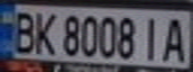0: (78, 11, 100, 58), (100, 12, 121, 60)
8: (115, 12, 142, 61), (57, 11, 81, 57)
A: (160, 14, 190, 63)
B: (6, 8, 39, 54)
I: (139, 14, 166, 62)
K: (30, 8, 57, 56)
